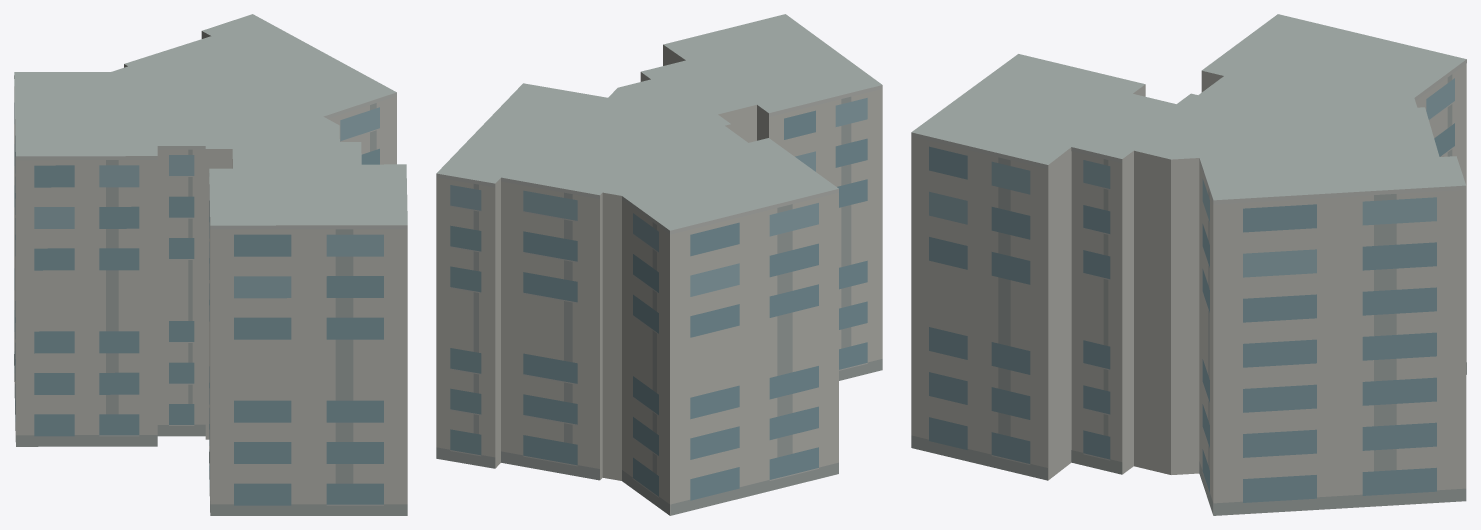
The model's file is survey-upis-32998957.glb.
3 views of the same model, side by side, from view 1: azimuth 30°, elevation 25°; view 2: azimuth 150°, elevation 25°; view 3: azimuth 270°, elevation 25° (orthographic). The views are drawn at different scales.
Parts seen in each view (by area): view 1: survey-upis-32998957.tmp; view 2: survey-upis-32998957.tmp; view 3: survey-upis-32998957.tmp.
Part boxes in pixels (x1=…): survey-upis-32998957.tmp: x1=14, y1=14, x2=407, y2=515; survey-upis-32998957.tmp: x1=436, y1=14, x2=882, y2=515; survey-upis-32998957.tmp: x1=911, y1=14, x2=1466, y2=515.
Size of the model in its own units: 23.18 by 18.3 by 29.2.
